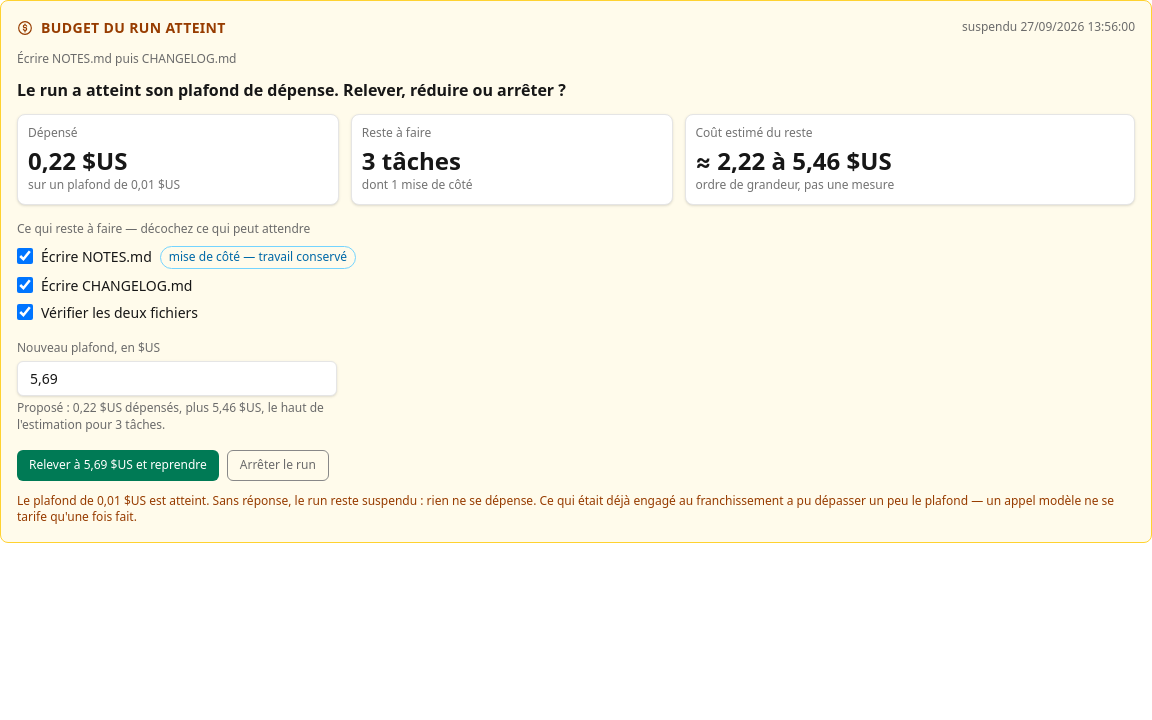
Scenario: les trois gestes › un refus de l'API se lit sur la carte, et la main est rendue
Click the button "Arrêter le run".
click(278, 465)  # box [227, 450, 329, 481]
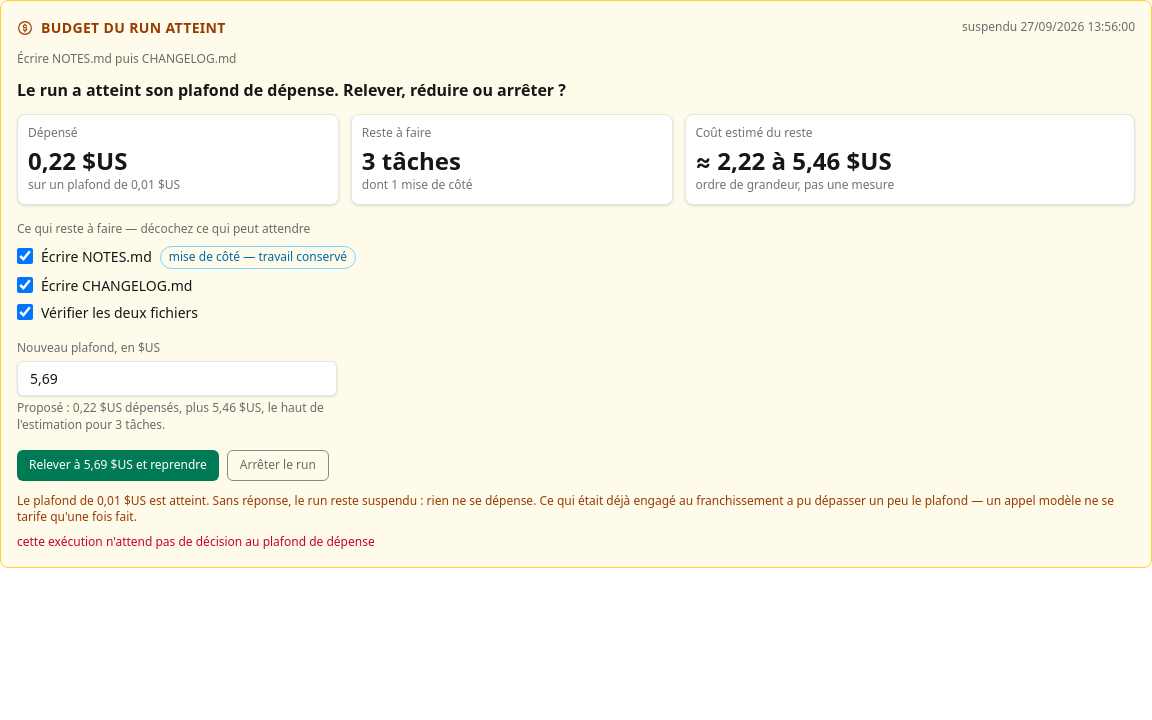
Expected: the message shows "n'attend pas de décision au plafond", [17, 533, 375, 550]
